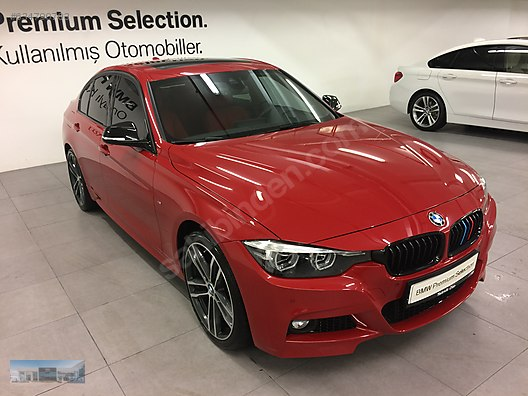b: (56, 45, 502, 368)
